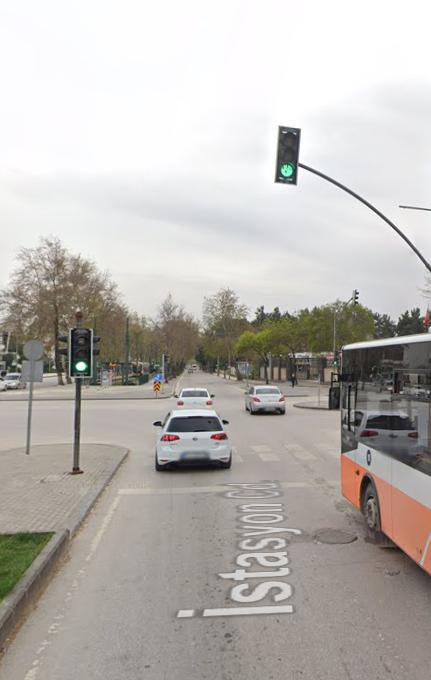greenlight: (275, 128, 300, 187), (67, 325, 93, 381)
